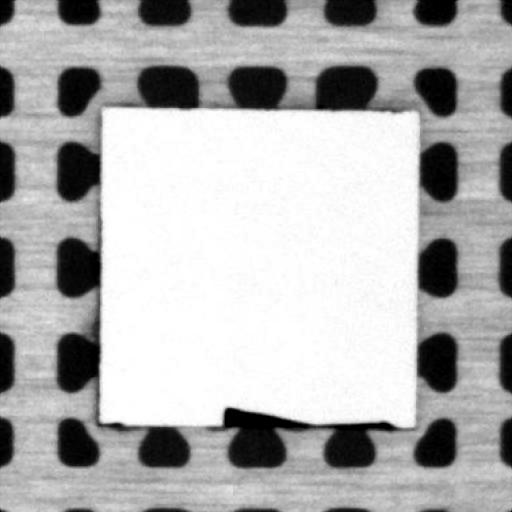DIE_INK: (222, 406, 393, 428)
